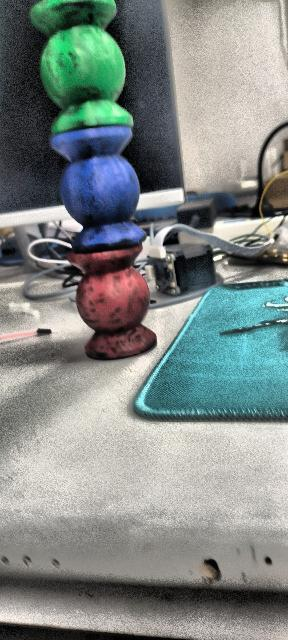blue: (50, 125, 146, 253)
green: (30, 0, 137, 138)
red: (68, 238, 164, 362)
